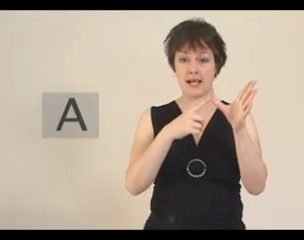A: (172, 76, 262, 139)
